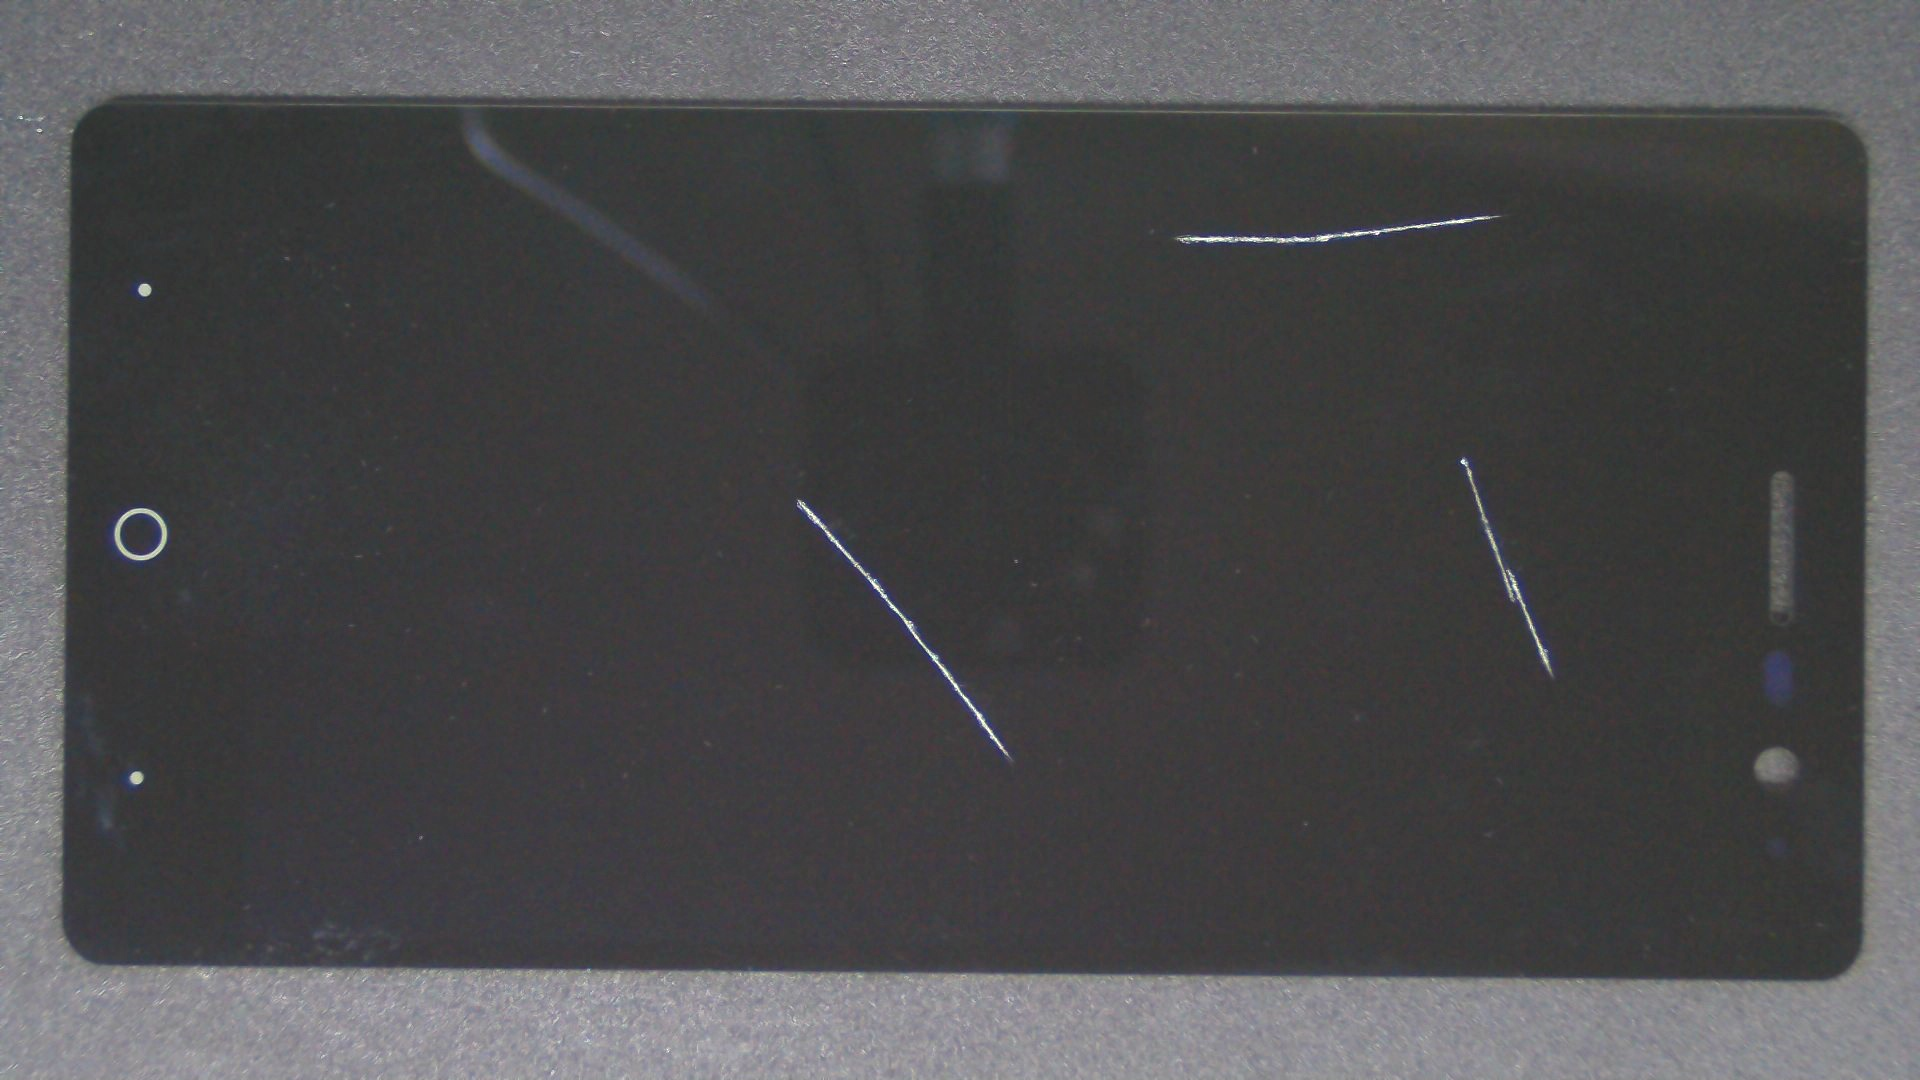oil: (733, 227, 1920, 684), (400, 248, 1196, 748), (746, 107, 1920, 322)
